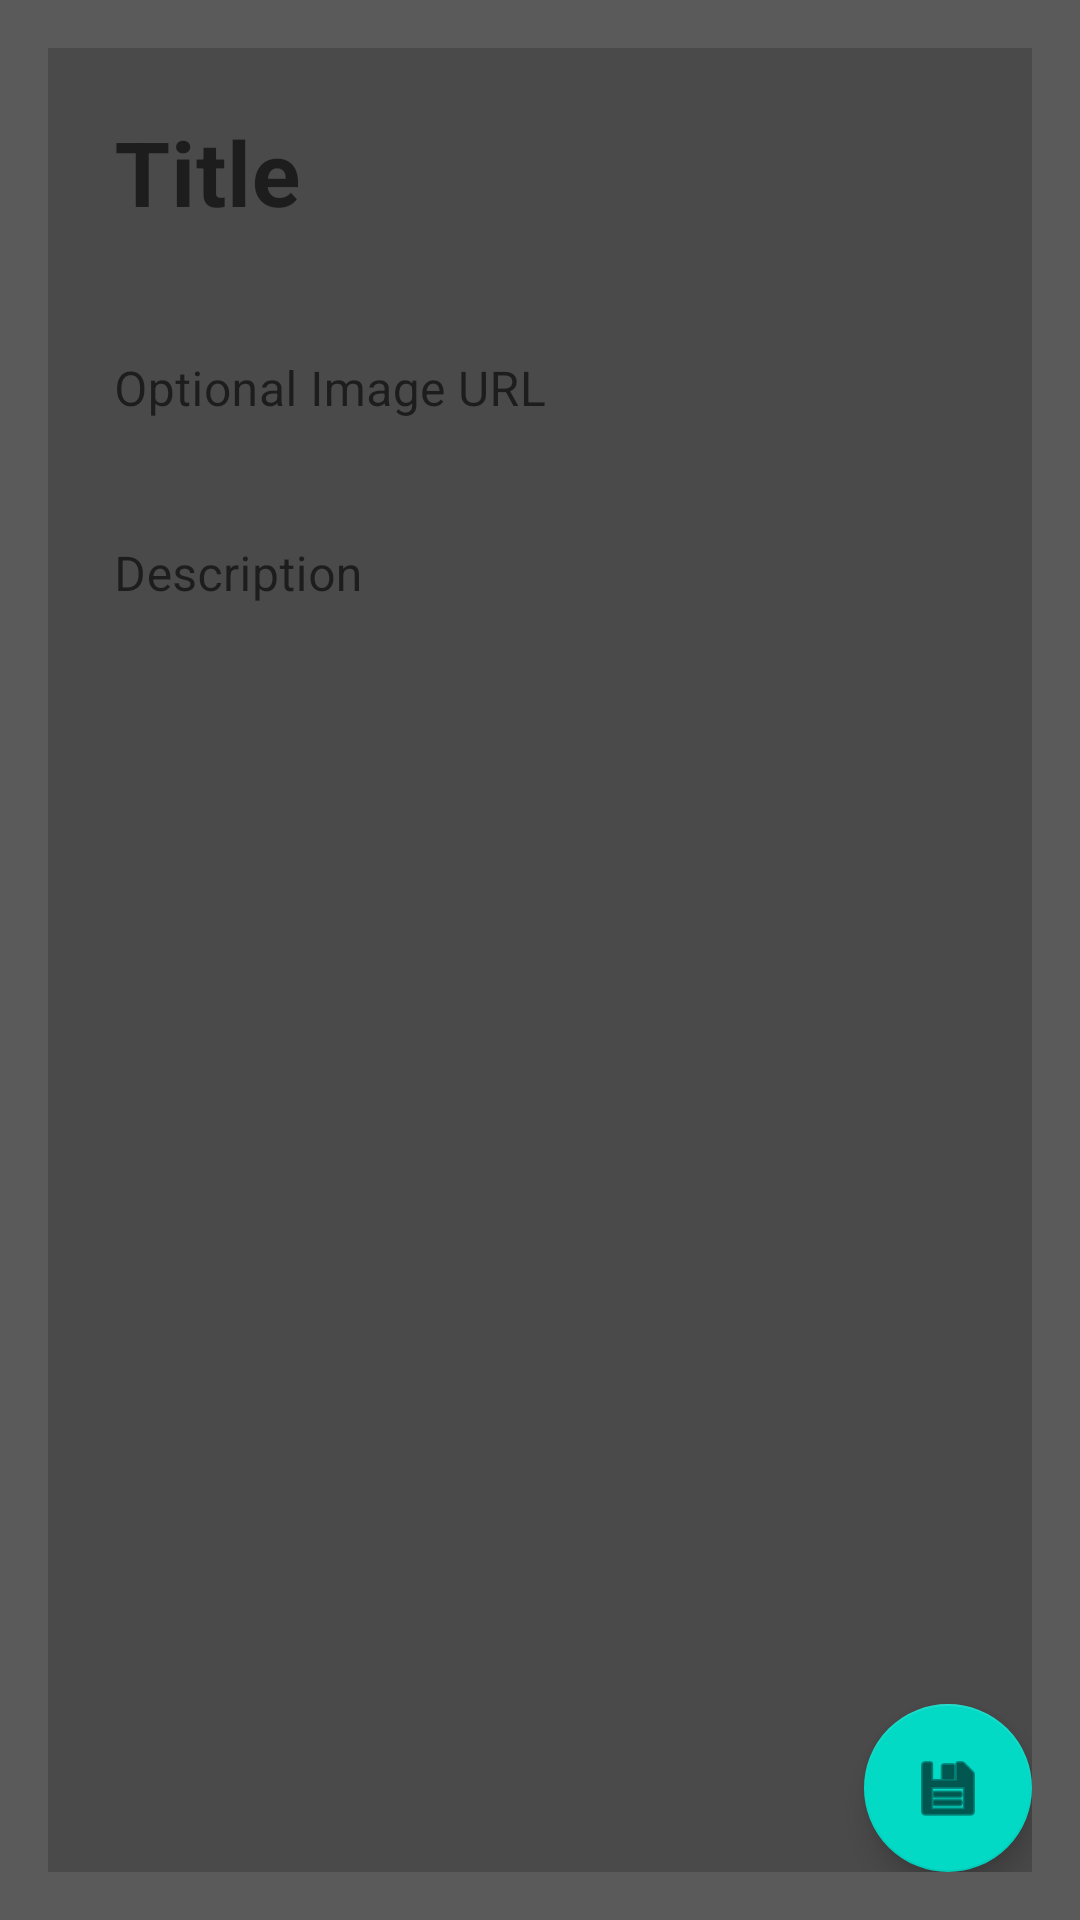

Point at icon controls on the screen. Image size 1080w x 1920h, points as (x,y).
Save note: (948,1788)
